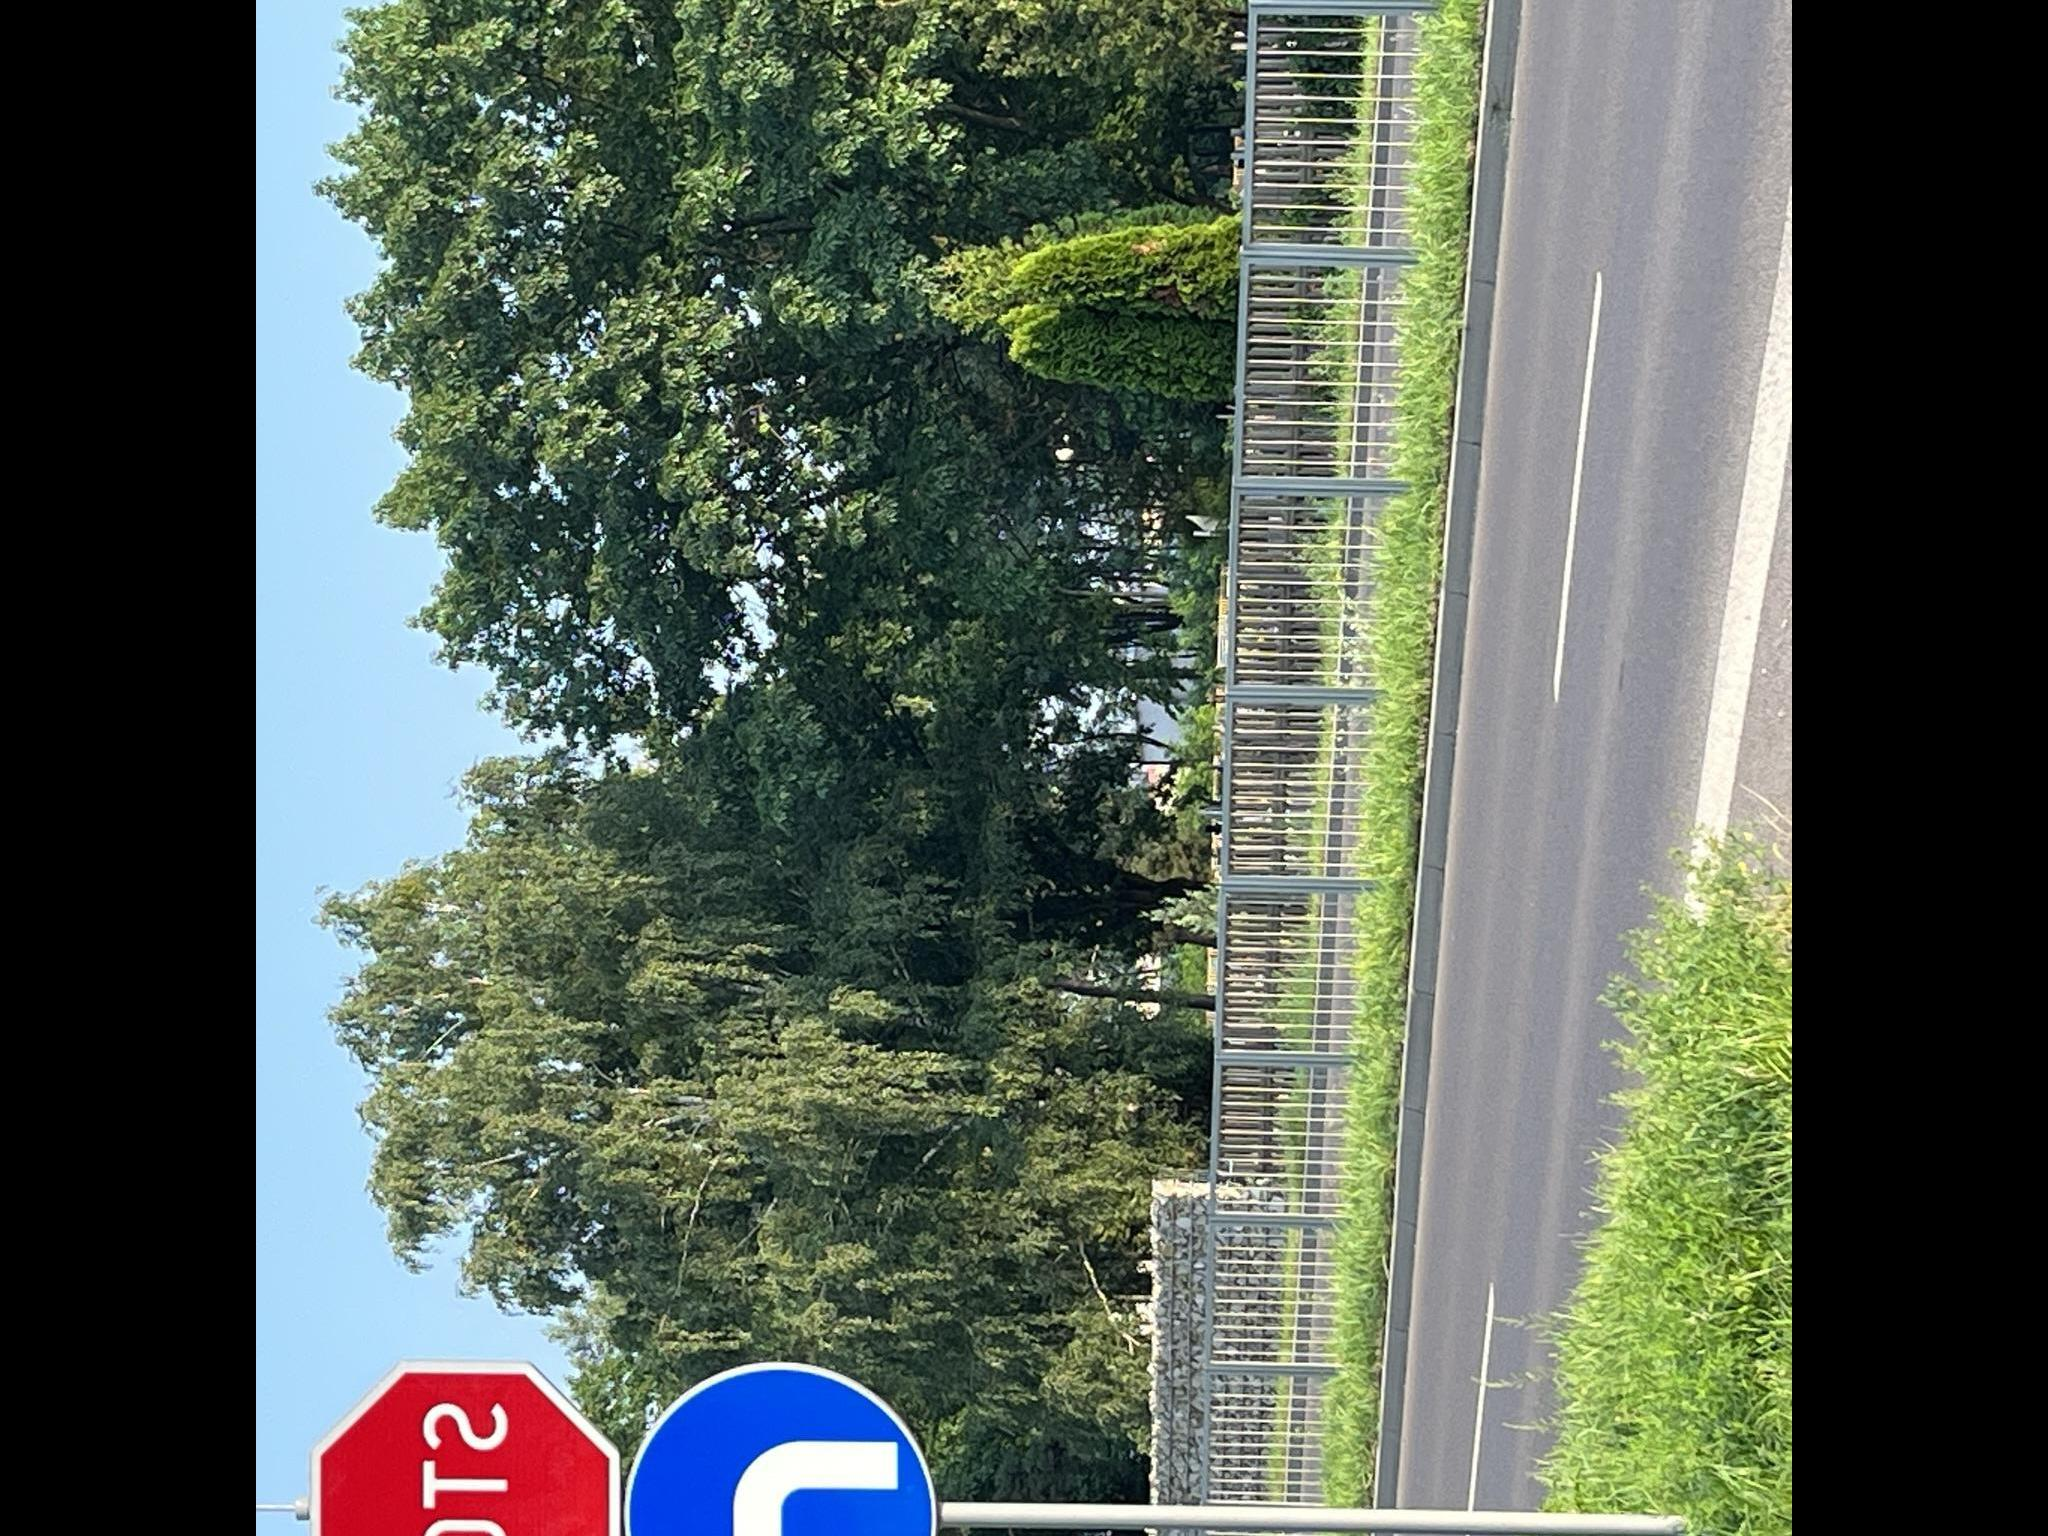mandatory: (624, 1359, 943, 1536)
prohibitory: (308, 1362, 626, 1536)
